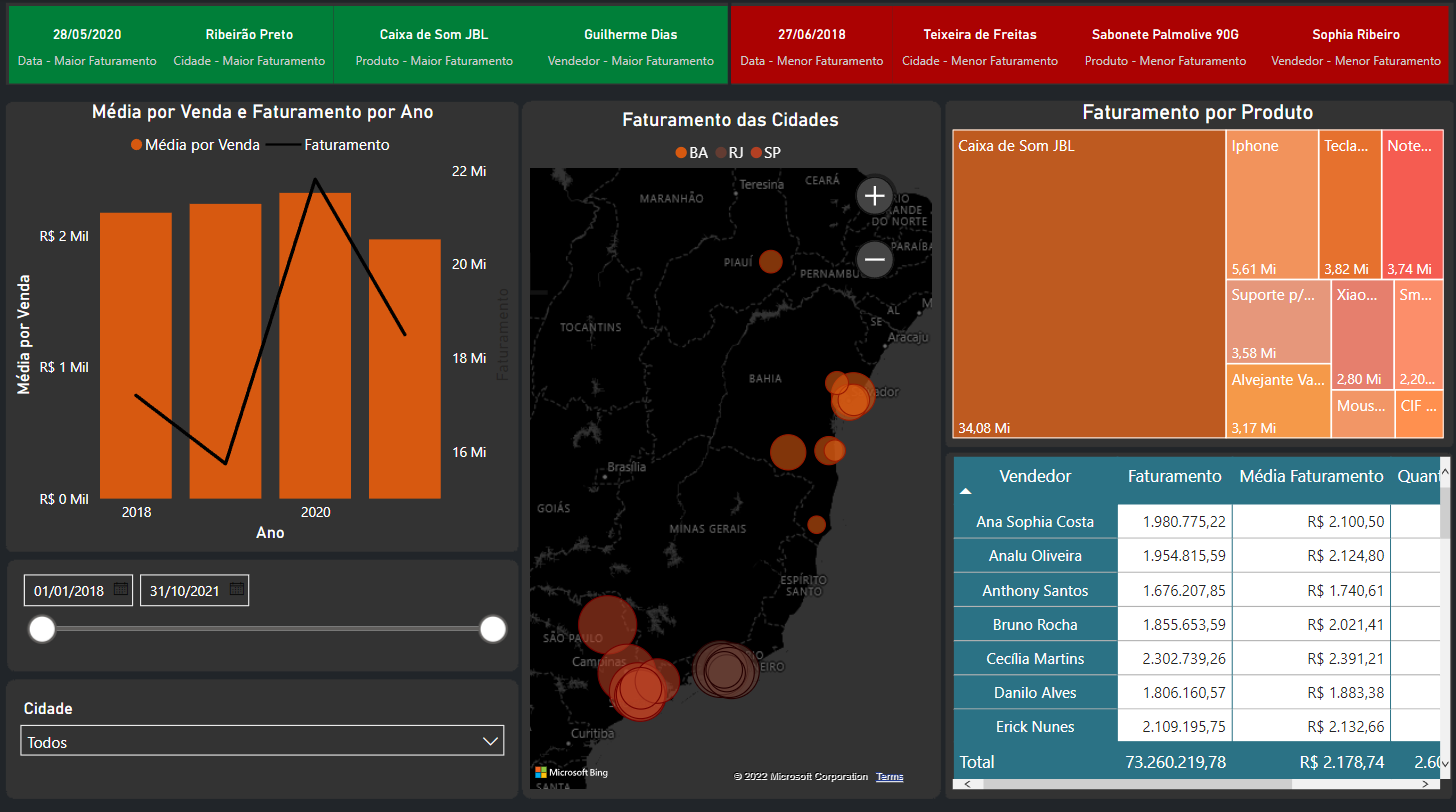

This screenshot's page, from the dashboard's own definition file:
{"tool":"powerbi","page":{"name":"Página 2","canvas":[1280,720],"ordinal":0},"visuals":[{"type":"map","title":"Faturamento das Cidades","fields":{"Category":["D-Cidades.Cidade"],"Size":["Medidas.SUMX Faturamento"],"Series":["D-Cidades.Estado"]},"box":[461,96.3,362.8,603],"z":0},{"type":"card","fields":{"Values":["Calendário.Date"]},"box":[8.8,6.8,137.1,68.1],"z":1000},{"type":"card","fields":{"Values":["D-Cidades.Cidade"]},"box":[145.9,6.8,147.8,68.1],"z":2000},{"type":"card","fields":{"Values":["D-Produtos.Nome"]},"box":[293.7,6.8,176,68.1],"z":3000},{"type":"card","fields":{"Values":["D-Vendedores.Vendedor"]},"box":[469.8,6.8,170.2,68.1],"z":4000},{"type":"card","fields":{"Values":["Calendário.Date"]},"box":[642.9,6.8,142,68.1],"z":5000},{"type":"card","fields":{"Values":["D-Cidades.Cidade"]},"box":[784.9,6.8,152.7,68.1],"z":6000},{"type":"card","fields":{"Values":["D-Produtos.Nome"]},"box":[937.6,6.8,173.1,68.1],"z":7000},{"type":"card","fields":{"Values":["D-Vendedores.Vendedor"]},"box":[1110.8,6.8,162.4,68.1],"z":8000},{"type":"lineClusteredColumnComboChart","fields":{"Category":["Calendário.Date.Variation.Hierarquia de datas.Ano","Calendário.Date.Variation.Hierarquia de datas.Trimestre"],"Y2":["Medidas.SUMX Faturamento"],"Y":["Medidas.Média de Faturamento por Venda"]},"box":[8.8,89.5,445.5,392.9],"z":9000},{"type":"slicer","fields":{"Values":["Calendário.Date"]},"box":[8.8,496,445.5,93.4],"z":10000},{"type":"slicer","fields":{"Values":["D-Cidades.Cidade"]},"box":[8.8,609.8,445.5,80.7],"z":11000},{"type":"treemap","title":"Faturamento por Produto","fields":{"Group":["D-Produtos.Nome"],"Values":["Medidas.SUMX Faturamento"]},"box":[832.6,89.5,440.6,301.5],"z":12000},{"type":"tableEx","fields":{"Values":["D-Vendedores.Vendedor","Medidas.SUMX Faturamento","Medidas.Média de Faturamento por Venda","F-Vendas.Qnt.","F-Vendas.Comissão R$"]},"box":[832.6,397.8,447.4,301.5],"z":13000}]}

Visuals, with their boxes in screenshot pixels (x1, y1, x2, y2), scaled from the page's 1280x720 canvas onto the 1456x812 screenshot:
"Faturamento das Cidades" map: detection(524, 109, 937, 789)
card - Calendário.Date: detection(10, 8, 166, 84)
card - D-Cidades.Cidade: detection(166, 8, 334, 84)
card - D-Produtos.Nome: detection(334, 8, 534, 84)
card - D-Vendedores.Vendedor: detection(534, 8, 728, 84)
card - Calendário.Date: detection(731, 8, 893, 84)
card - D-Cidades.Cidade: detection(893, 8, 1067, 84)
card - D-Produtos.Nome: detection(1067, 8, 1263, 84)
card - D-Vendedores.Vendedor: detection(1264, 8, 1448, 84)
lineClusteredColumnComboChart - Calendário.Date.Variation.Hierarquia de datas.Ano x Calendário.Date.Variation.Hierarquia de datas.Trimestre: detection(10, 101, 517, 544)
slicer - Calendário.Date: detection(10, 559, 517, 665)
slicer - D-Cidades.Cidade: detection(10, 688, 517, 779)
"Faturamento por Produto" treemap: detection(947, 101, 1448, 441)
tableEx - D-Vendedores.Vendedor x Medidas.SUMX Faturamento: detection(947, 449, 1455, 789)
